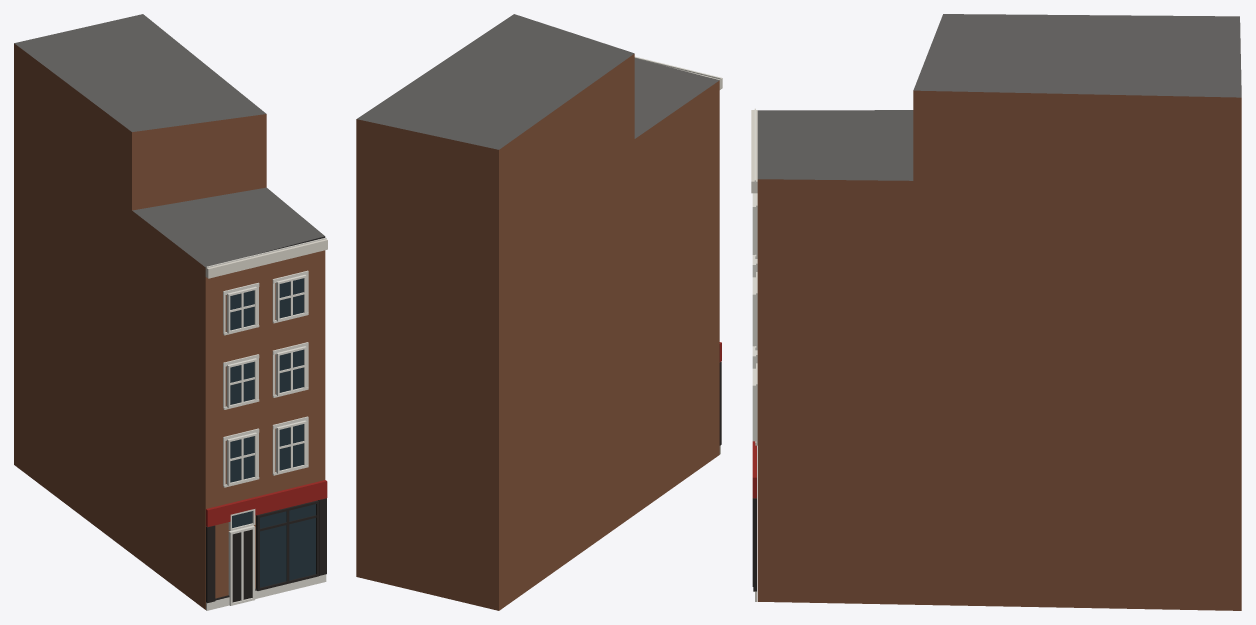
3 renders of one model, left to right at view 1: azimuth 30°, elevation 25°; view 2: azimuth 150°, elevation 25°; view 3: azimuth 270°, elevation 25°, orthographic. The views are drawn at different scales.
Parts seen in each view (by area): view 1: spec-0363100012182378; view 2: spec-0363100012182378; view 3: spec-0363100012182378.
Boxes of the visible parts, x1,y1,x2,y2 form: spec-0363100012182378: (14,14,327,610); spec-0363100012182378: (356,14,722,610); spec-0363100012182378: (751,14,1241,610).
Size of the model in its own units: 5.19 by 15.53 by 13.34.
